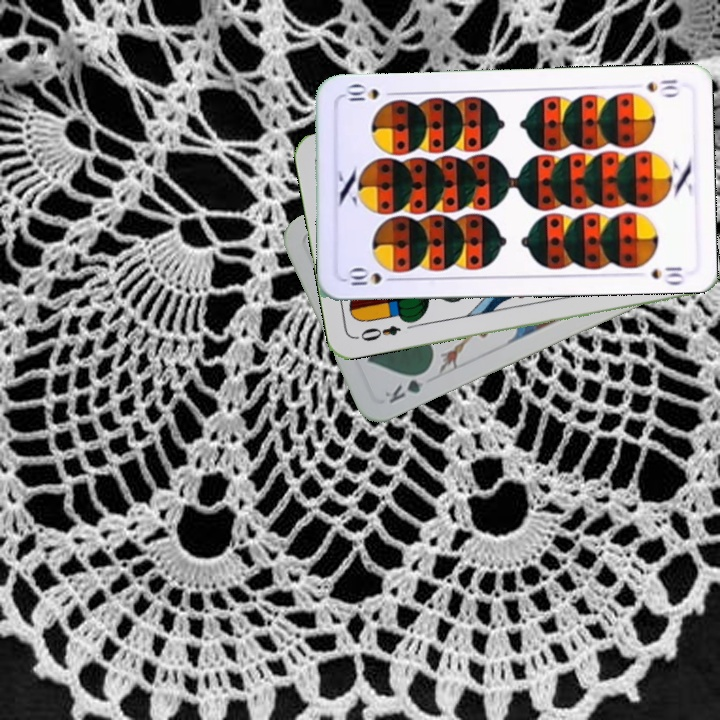EO: (352, 321, 403, 344)
GK: (380, 366, 432, 406)
S10: (342, 265, 401, 288), (643, 75, 682, 99)
